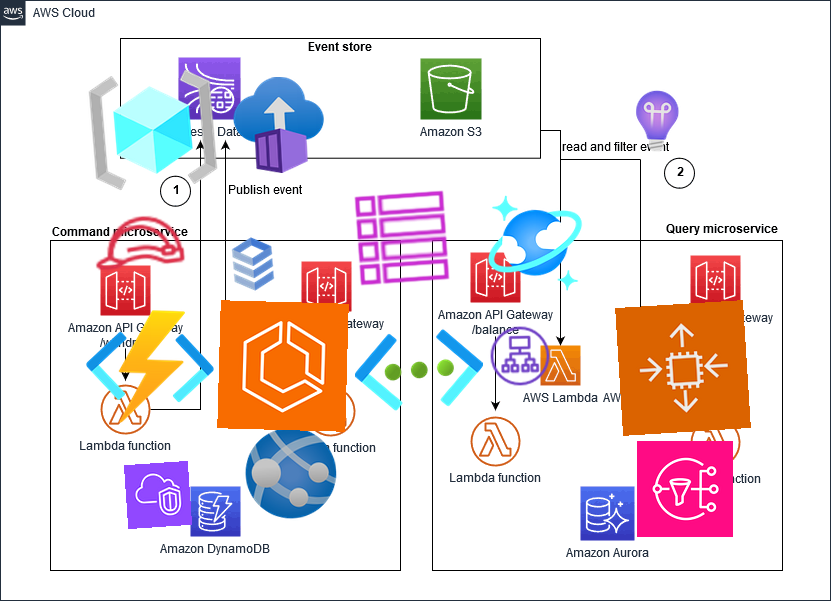aws_amazon_ec2_auto_scaling: (615, 300, 751, 436)
aws_amazon_elastic_container_service: (217, 300, 349, 432)
aws_amazon_simple_notification_service: (636, 440, 734, 538)
aws_amazon_virtual_private_cloud: (123, 460, 193, 530)
aws_dynamodb_table: (350, 186, 454, 290)
aws_elastic_load_balancing_application_load_balancer: (487, 323, 553, 389)
aws_identity_access_management_role: (87, 191, 191, 295)
azure_app_services: (239, 421, 343, 525)
azure_application_insights: (624, 88, 690, 154)
azure_container_instances: (228, 74, 330, 176)
azure_cosmos_db: (483, 191, 587, 295)
azure_function_apps: (83, 300, 217, 434)
azure_resource_groups: (83, 60, 223, 200)
azure_virtual_networks: (349, 300, 489, 440)
gcp_cloud_sql: (218, 229, 288, 299)
